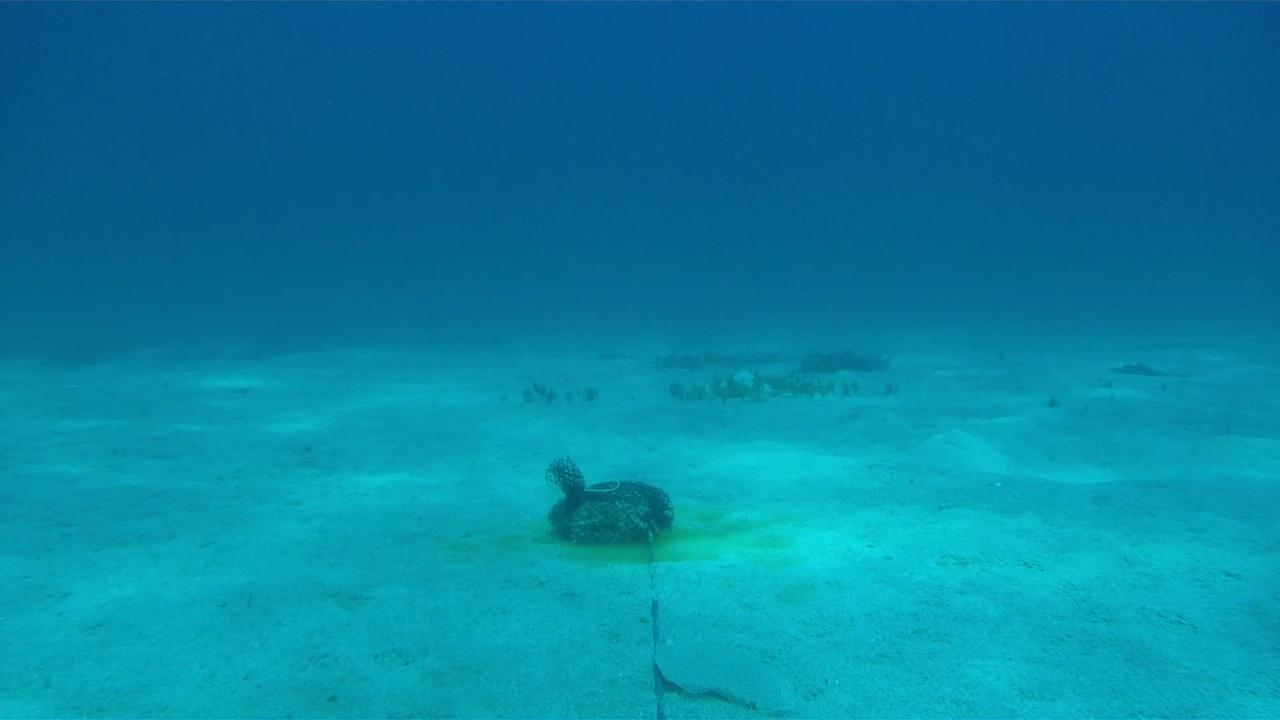bothus: (652, 632, 799, 716)
